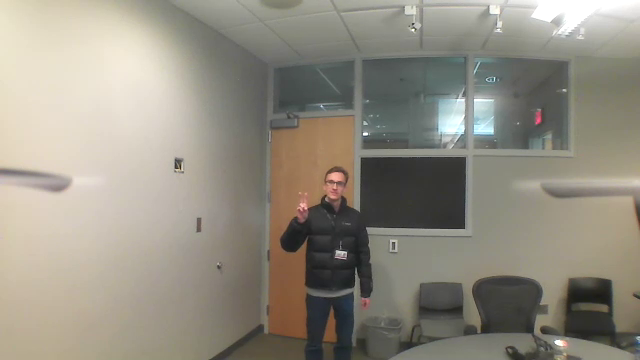peace: (291, 187, 315, 224)
